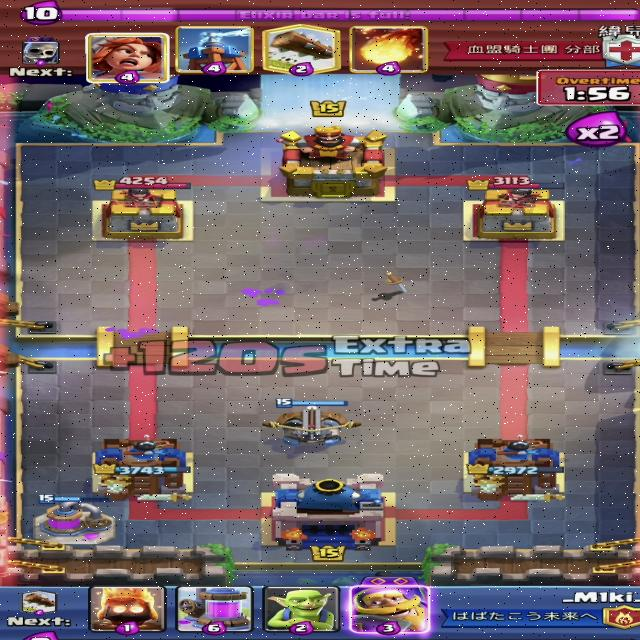Player-ElixirPump: (32, 494, 118, 545)
Player-XBow: (264, 397, 364, 446)
